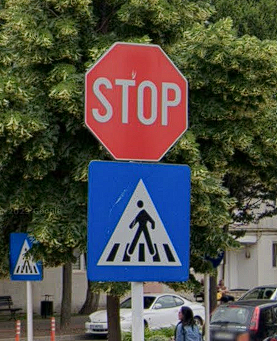trecere_pietoni: (86, 157, 193, 282), (7, 229, 45, 282)
